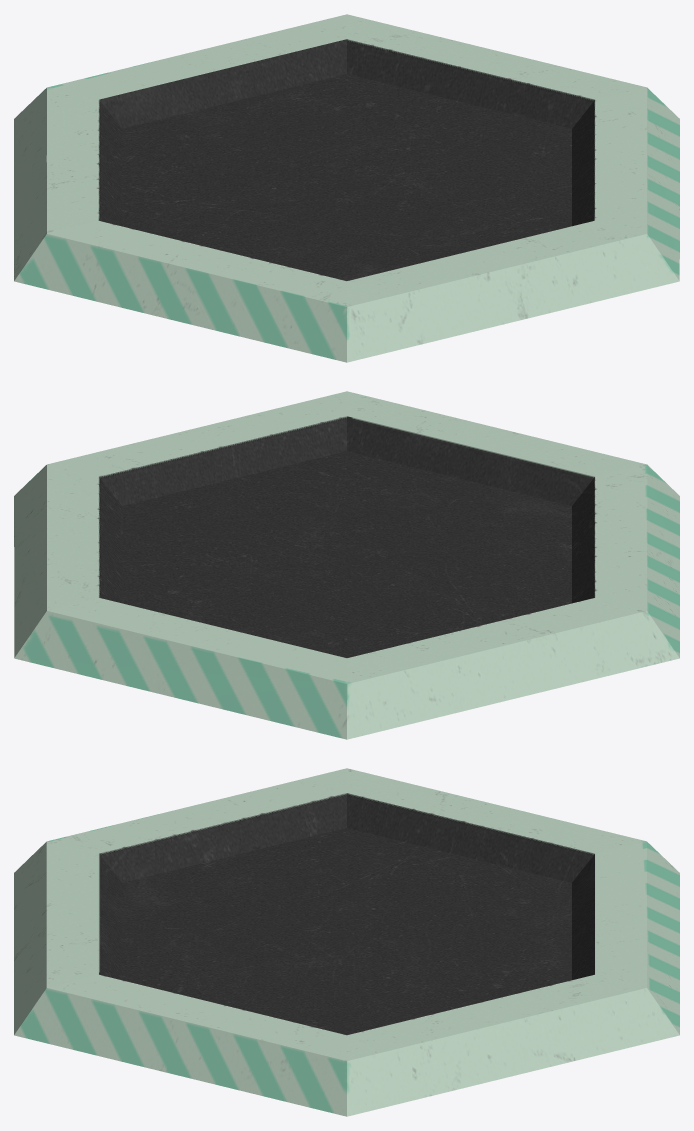
The model's file is button.glb.
3 views of the same model, one above another, from view 1: azimuth 30°, elevation 25°; view 2: azimuth 150°, elevation 25°; view 3: azimuth 270°, elevation 25° (orthographic).
Size of the model in its own units: 5.95 by 0.342 by 5.16.
Materials: 1 (1 with a texture image).
